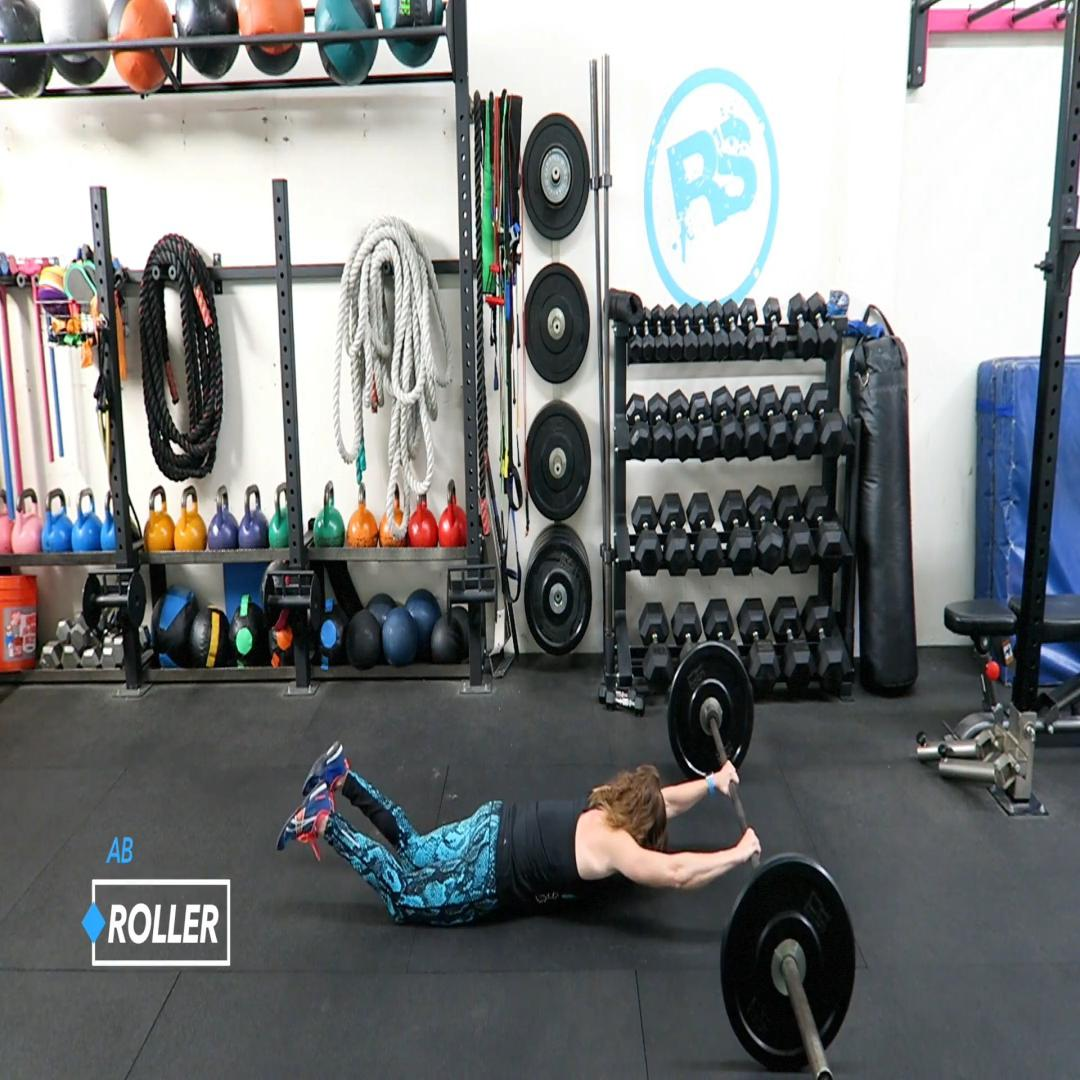Barbell: (721, 861, 856, 1073)
